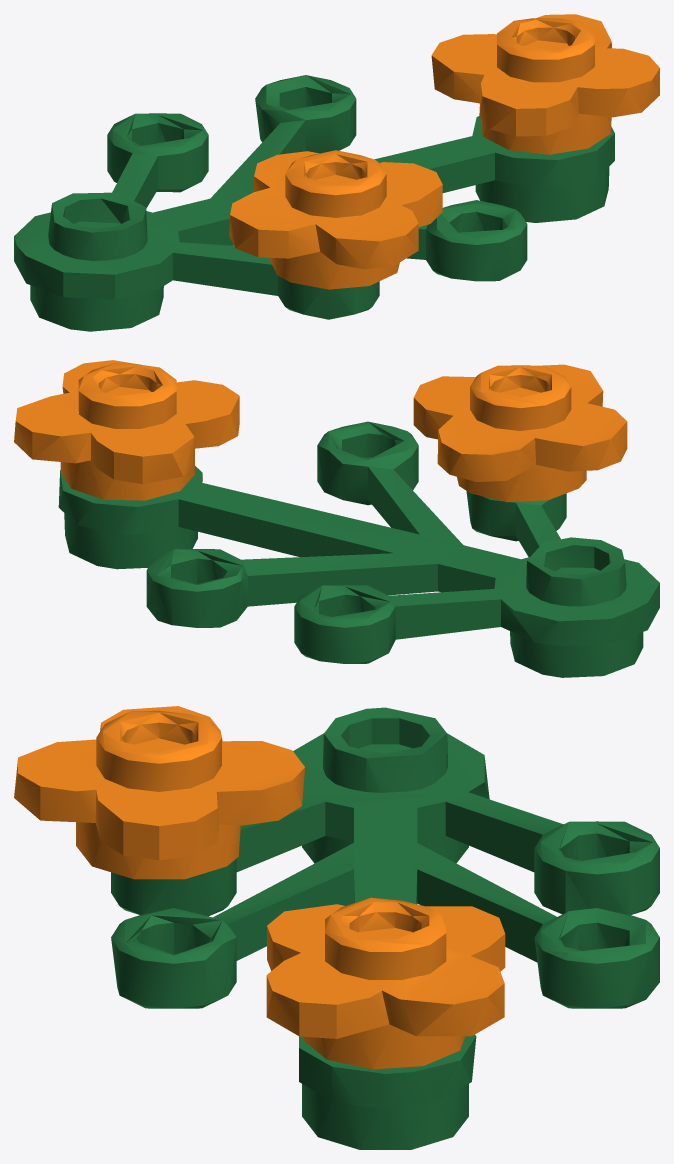
File: frog_stem_b_orange.glb
3 views of the same model, one above another, from view 1: azimuth 30°, elevation 25°; view 2: azimuth 150°, elevation 25°; view 3: azimuth 270°, elevation 25° (orthographic). The views are drawn at different scales.
Parts seen in each view (by area): view 1: frog_stem_b_orange; view 2: frog_stem_b_orange; view 3: frog_stem_b_orange.
Part boxes in pixels (box(x1,y1,x2,y2)): frog_stem_b_orange: box(14, 14, 659, 331); frog_stem_b_orange: box(14, 360, 659, 677); frog_stem_b_orange: box(14, 706, 659, 1149).
Size of the model in its own units: 1.17 by 0.3053 by 0.875.
